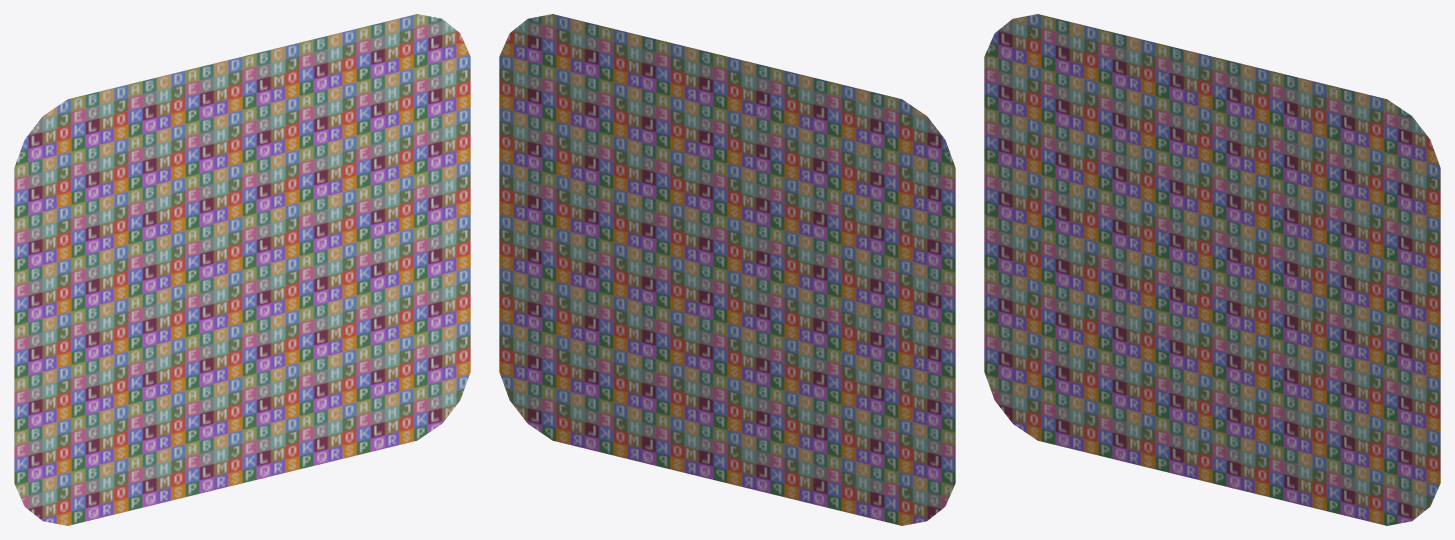
File: monitor1_screen.obj
3 views of the same model, side by side, from view 1: azimuth 30°, elevation 25°; view 2: azimuth 150°, elevation 25°; view 3: azimuth 330°, elevation 25° (orthographic).
Visible parts, largest first — view 1: flat_screen_Cube.002_None; view 2: flat_screen_Cube.002_None; view 3: flat_screen_Cube.002_None.
Part boxes in pixels (x1,y1,x2,y2): flat_screen_Cube.002_None: (14,14,470,525); flat_screen_Cube.002_None: (499,14,955,525); flat_screen_Cube.002_None: (984,14,1440,525).
Bounding box in the file's own units: 0.2364 × 0.2111 × 0.
Materials: 1 (1 with a texture image).
